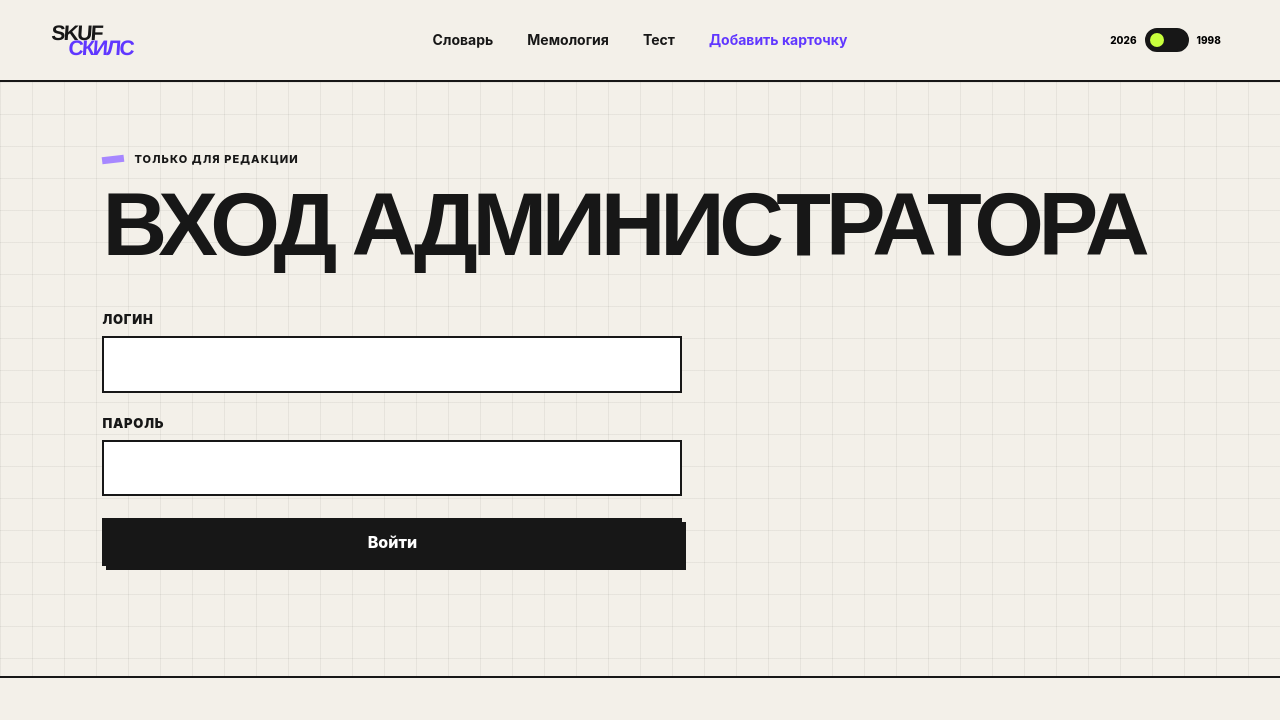
it: administrator flow › logs in and opens the pending moderation queue
The width and height of the screenshot is (1280, 720).
Type "admin@example.test" into the field labelled "Логин".
click(392, 365); type("admin@example.test")  # box [102, 336, 682, 393]
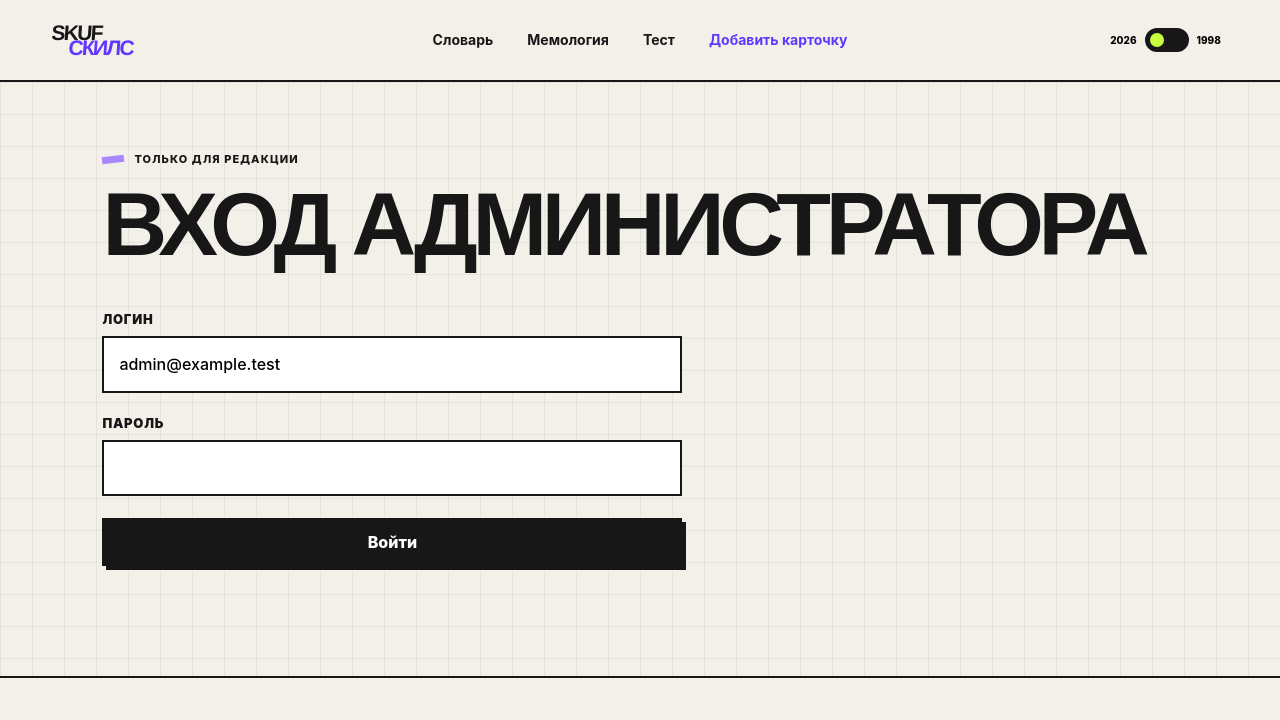
Type "valid password" into the password field labelled "Пароль".
click(392, 468); type("valid password")  # box [102, 440, 682, 496]
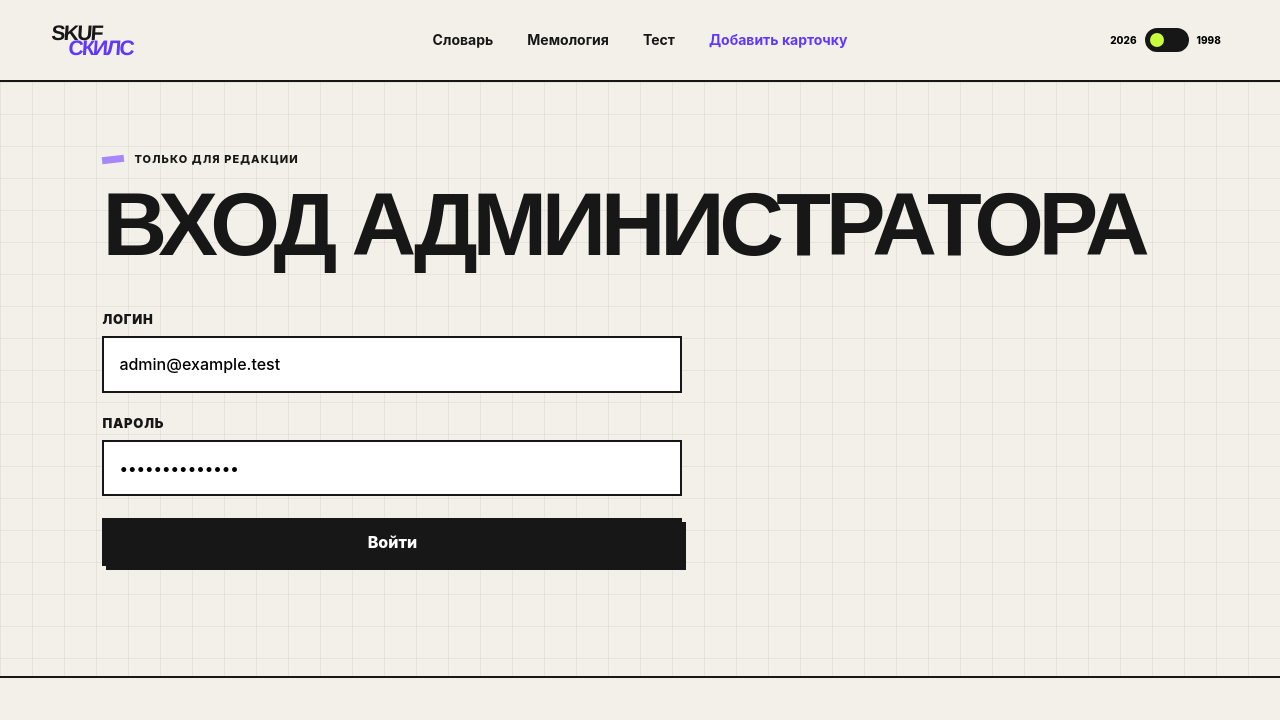
Click the button "Войти".
click(392, 542)  # box [102, 518, 682, 566]
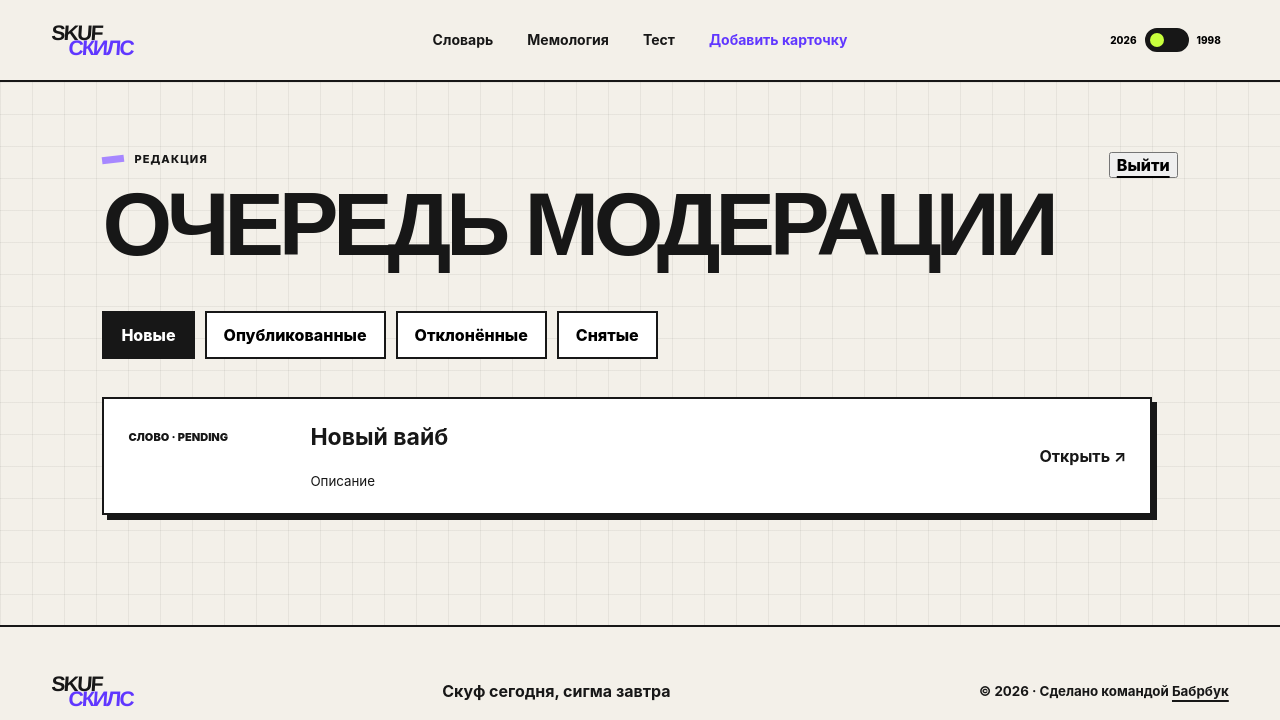
Check: the heading "Очередь модерации" is shown, box [102, 188, 1054, 262]
